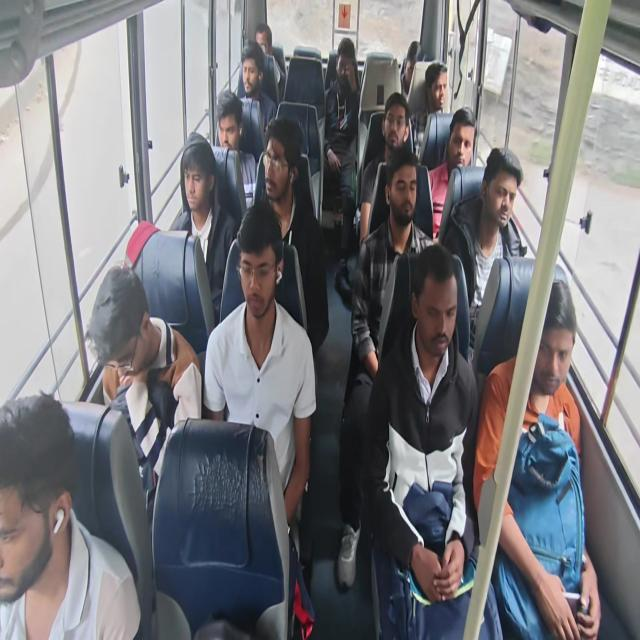person: (0, 396, 70, 601), (92, 268, 149, 381), (525, 280, 574, 397), (413, 264, 468, 368), (229, 231, 280, 334), (258, 138, 310, 204), (176, 146, 216, 220), (487, 152, 522, 236), (386, 167, 420, 230), (424, 60, 455, 115), (449, 112, 474, 174), (384, 100, 410, 153), (212, 98, 240, 146), (237, 52, 265, 96), (402, 46, 426, 96), (250, 31, 277, 61), (336, 49, 350, 88)
